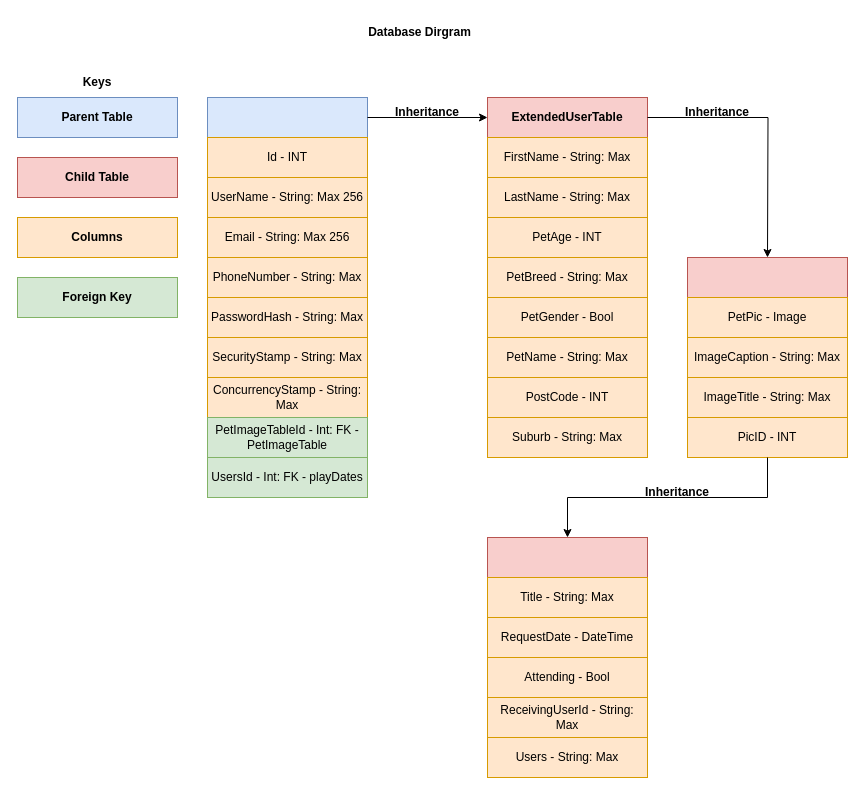
The diagram is 865 pixels wide and 795 high, and some of its shapes have lost their labels. Here are the shapes that lost their labels. From the top down, the centre of each, then its label:
At [287,117]: "AspNetUsers".
At [767,277]: "PetImageTable".
At [567,557]: "playDates".
